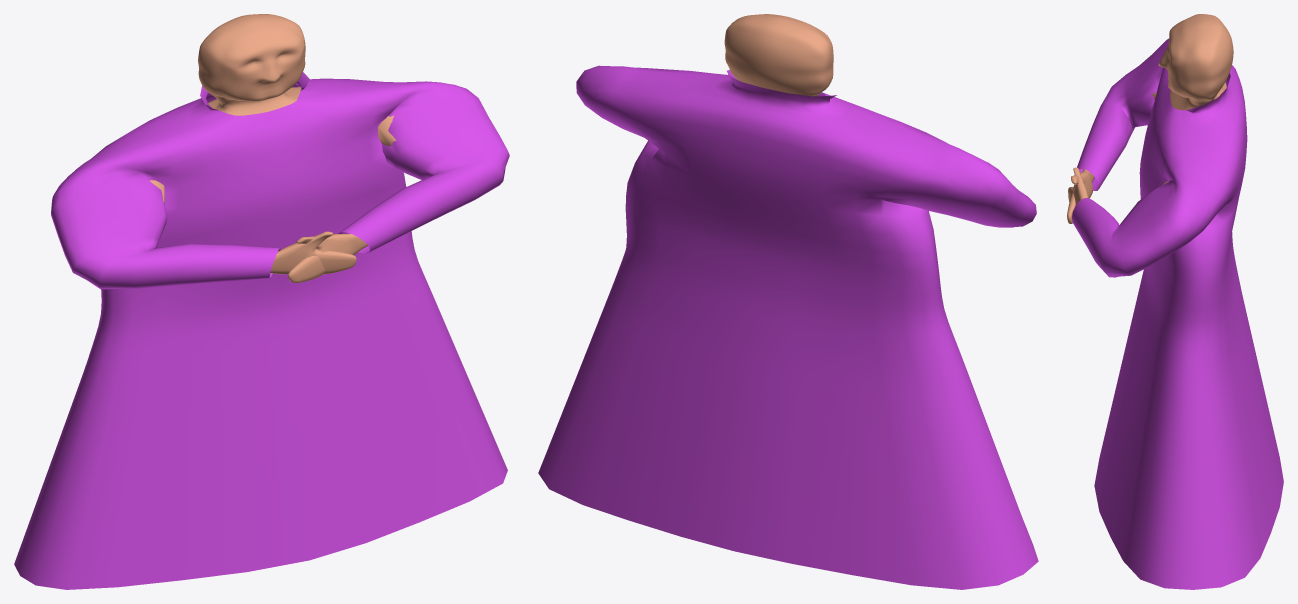
Rendered from DungeonNPC.fbx.
The picture shows the model from 3 angles, left to right: view 1: azimuth 30°, elevation 25°; view 2: azimuth 150°, elevation 25°; view 3: azimuth 270°, elevation 25°; orthographic projection. The views are drawn at different scales.
Parts seen in each view (by area): view 1: Robe, Person; view 2: Robe, Person; view 3: Robe, Person.
Part boxes in pixels (x1=…): Robe: x1=14, y1=72, x2=509, y2=589; Person: x1=149, y1=14, x2=396, y2=282; Robe: x1=538, y1=65, x2=1038, y2=589; Person: x1=724, y1=14, x2=833, y2=96; Robe: x1=1072, y1=38, x2=1283, y2=589; Person: x1=1067, y1=14, x2=1233, y2=223.
Bounding box in the file's own units: 0.3101 × 0.7256 × 0.7694.
